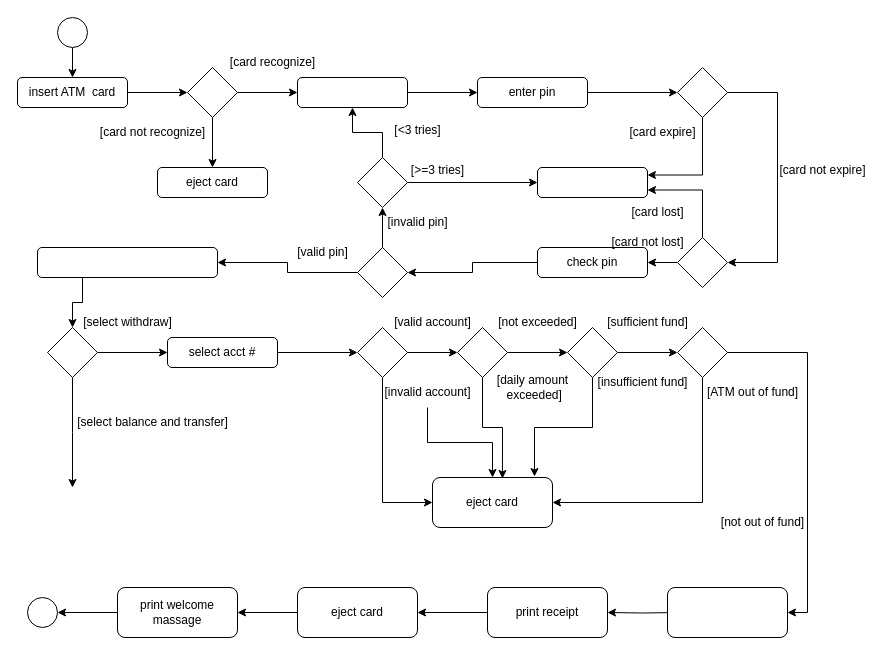
This 895x655 diagram has some shape labels left out. Here are the shapes that lost their labels. From the top down, the centre of each, then its label:
At [352,92]: "prompt for pin".
At [592,182]: "confiscate card".
At [127,262]: "prompt the transactipn".
At [727,612]: "dispense cash".
